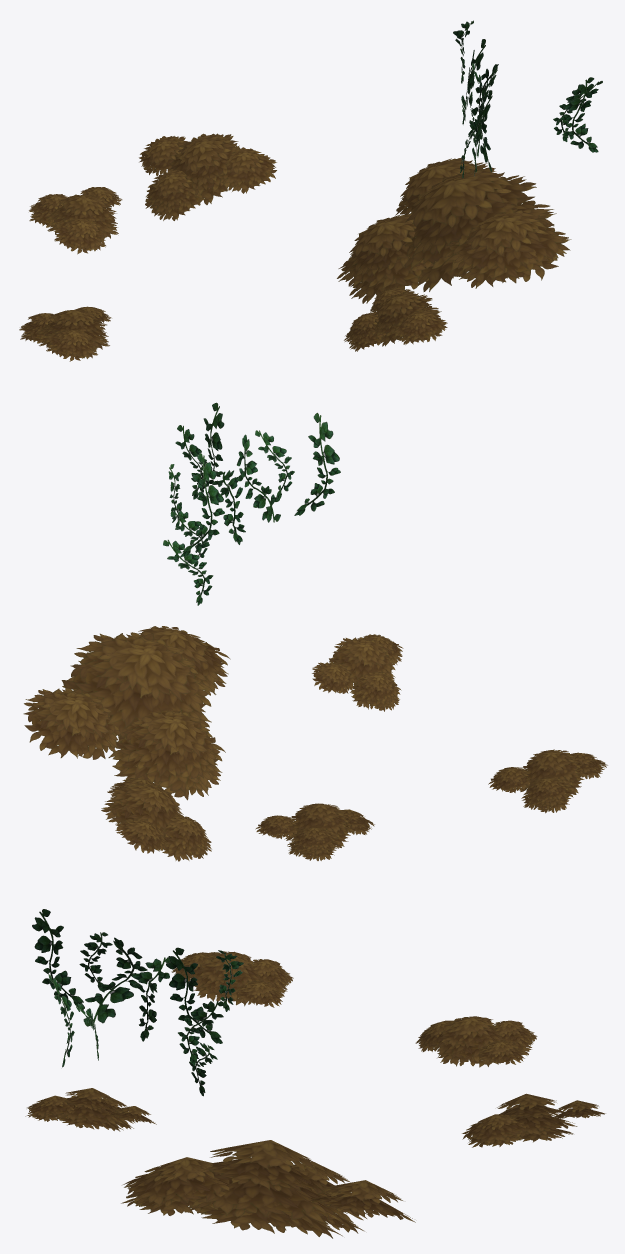
The model's file is boss4_zhibei_1.fbx.
The picture shows the model from 3 angles, top to bottom: view 1: azimuth 30°, elevation 25°; view 2: azimuth 150°, elevation 25°; view 3: azimuth 270°, elevation 25°; orthographic projection. The views are drawn at different scales.
Visible parts, largest first — view 1: boss4_zhibei_1; view 2: boss4_zhibei_1; view 3: boss4_zhibei_1.
Part boxes in pixels (x1,y1,x2,y2): boss4_zhibei_1: (19,20,602,361); boss4_zhibei_1: (23,402,607,861); boss4_zhibei_1: (25,909,605,1238).
Size of the model in its own units: 4187 by 2353 by 3846.
